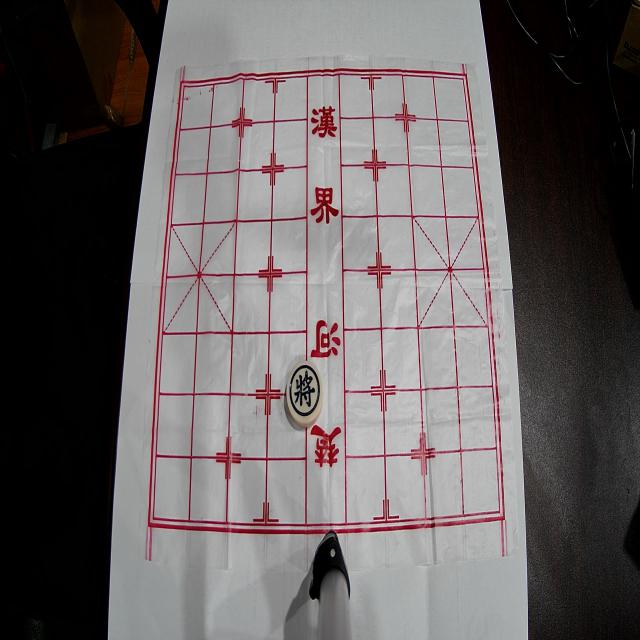black-general: (286, 361, 324, 427)
